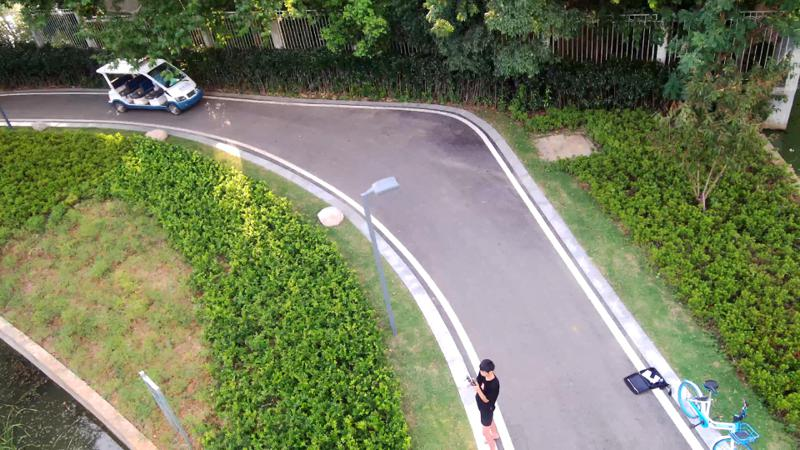passerby: (464, 359, 501, 450)
